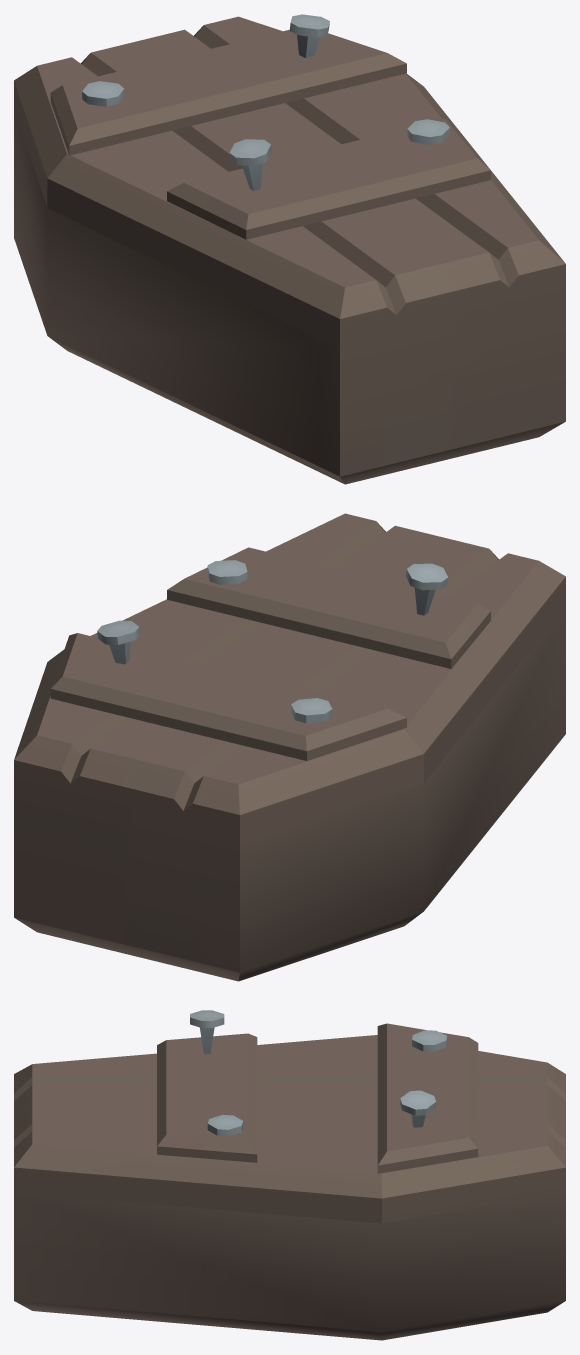
The model's file is coffin.glb.
3 renders of one model, top to bottom at view 1: azimuth 30°, elevation 25°; view 2: azimuth 150°, elevation 25°; view 3: azimuth 270°, elevation 25°, orthographic. The views are drawn at different scales.
Parts seen in each view (by area): view 1: coffin; view 2: coffin; view 3: coffin.
Part boxes in pixels (x1,y1,x2,y2): coffin: (14, 14, 565, 484); coffin: (14, 513, 565, 981); coffin: (14, 1010, 565, 1340).
Size of the model in its own units: 2 by 1.32 by 3.
Materials: 1 (1 with a texture image).
